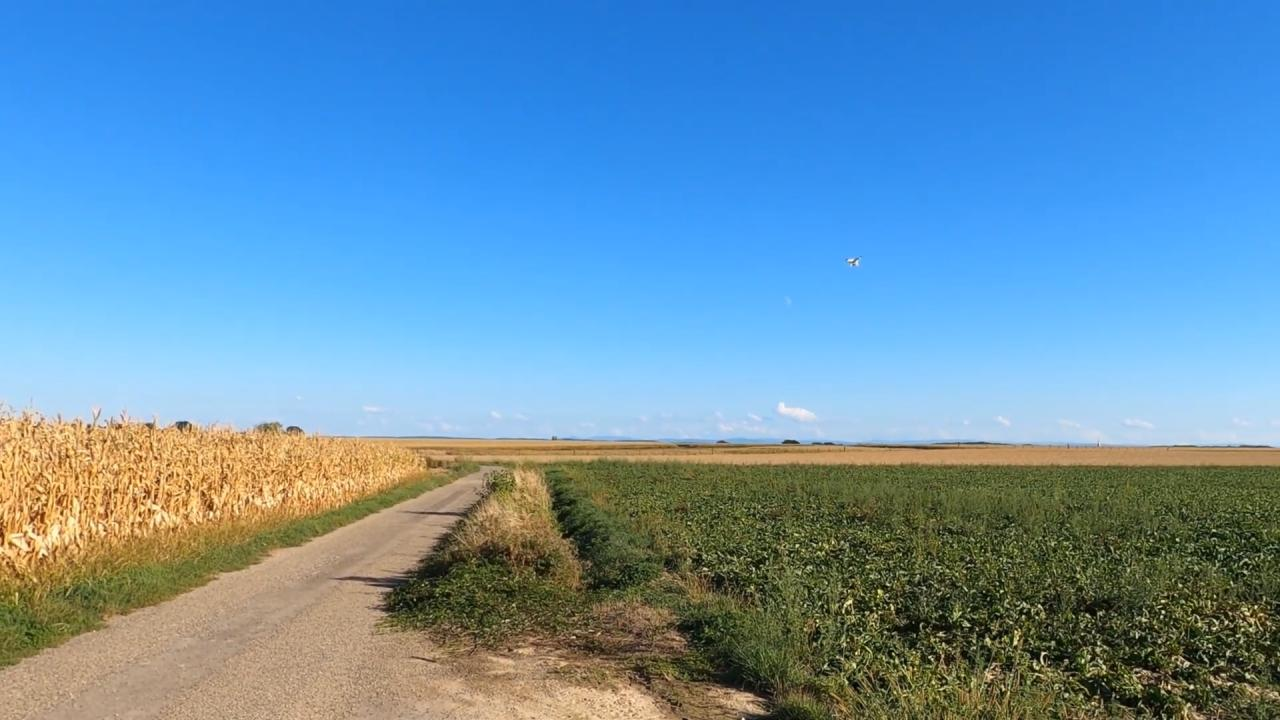Drone: (839, 247, 869, 276)
